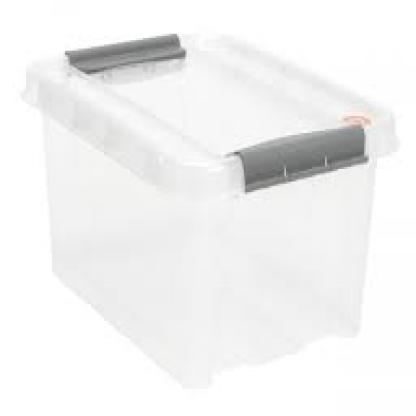plastic_box: (12, 8, 402, 386)
